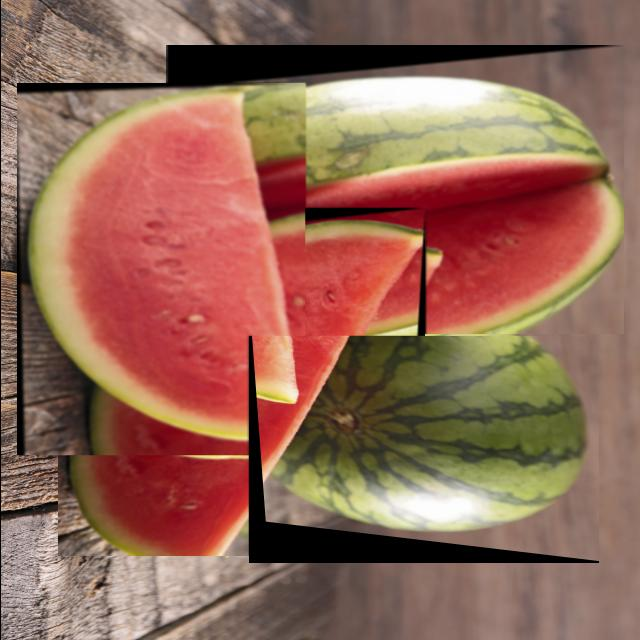watermelon: (165, 45, 622, 334), (57, 208, 424, 556), (16, 83, 304, 455), (248, 336, 598, 563)
